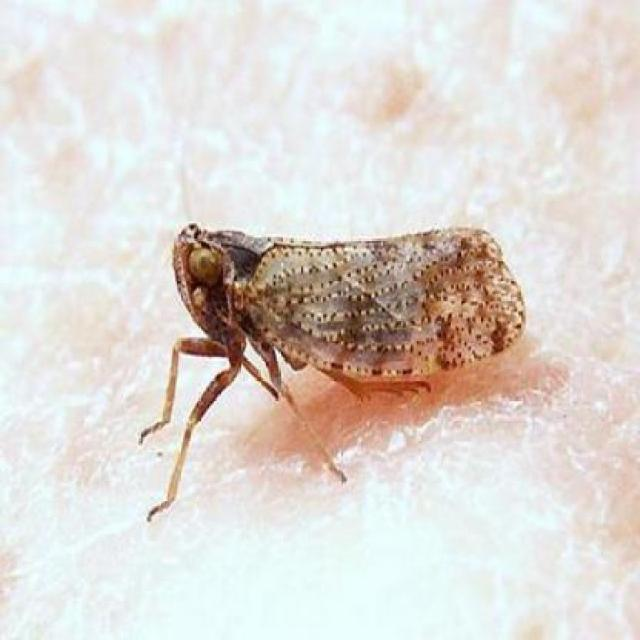brown-planthopper: (166, 210, 525, 430)
